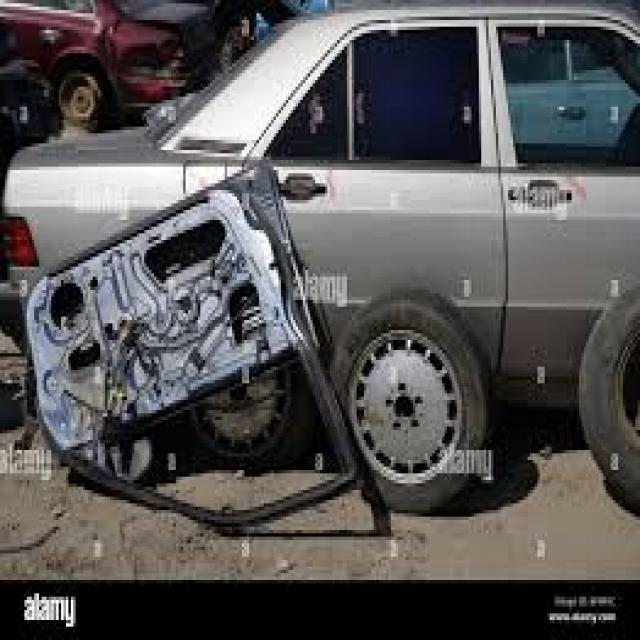damaged-door: (0, 170, 362, 524)
